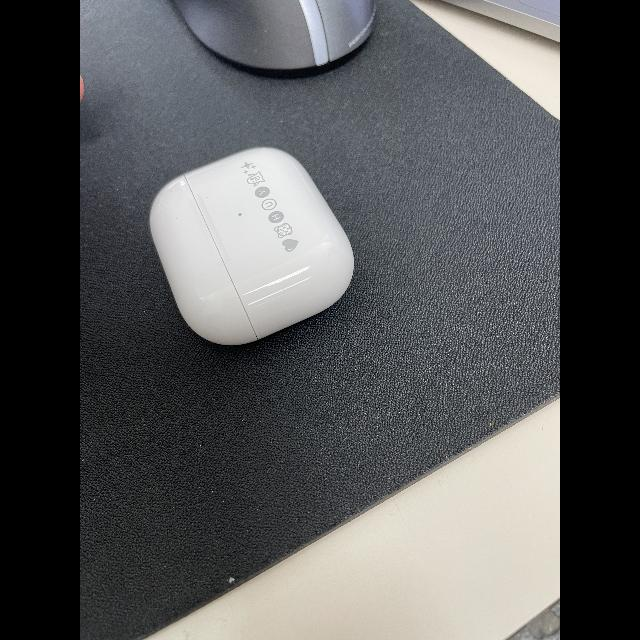airpod3: (128, 143, 372, 351)
